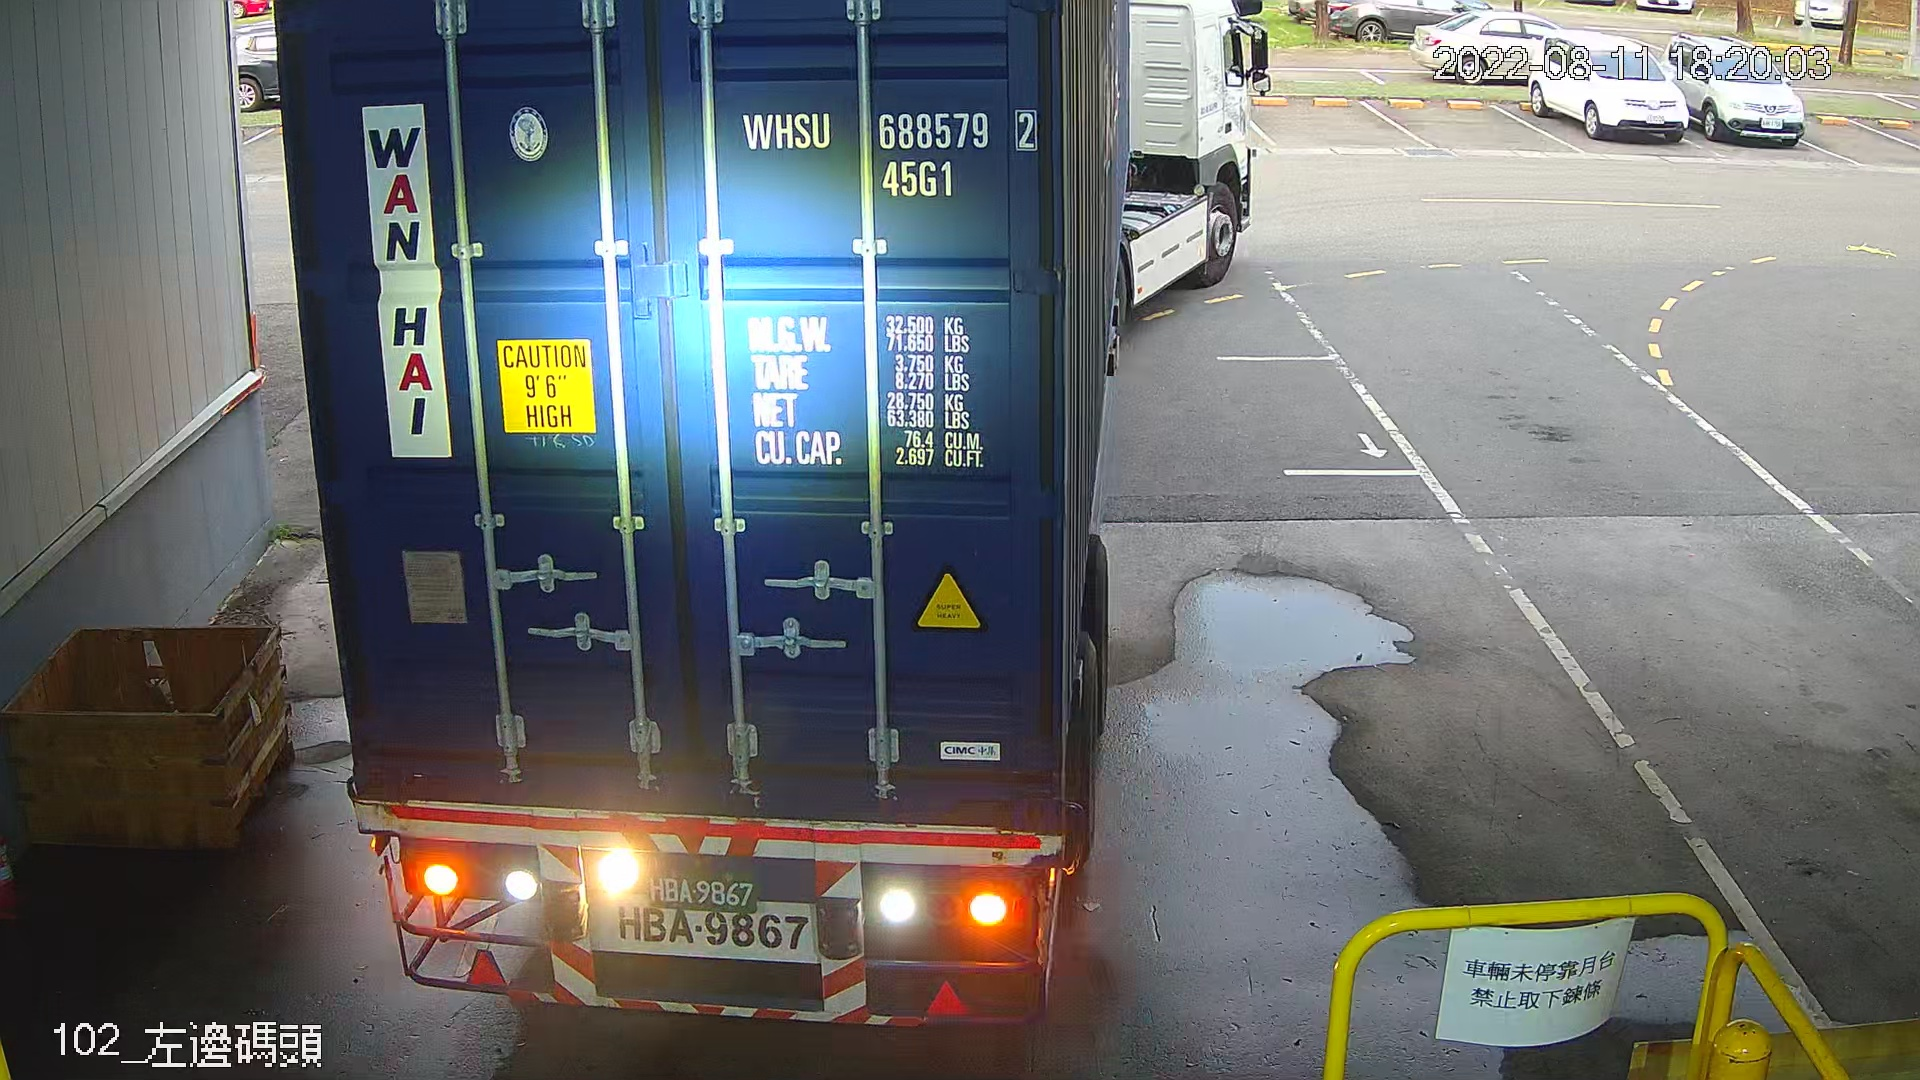container: (732, 95, 1047, 208)
